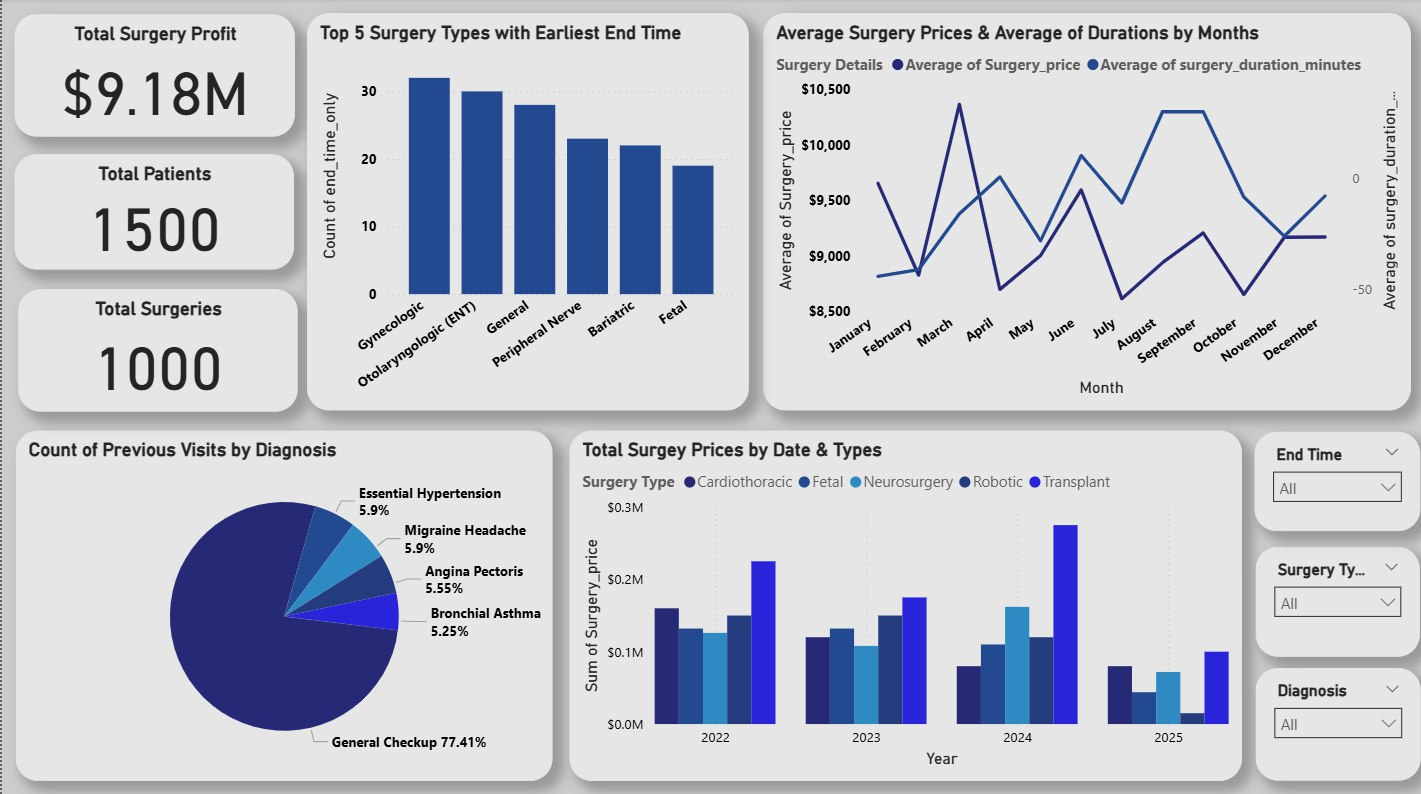

The dashboard page shown, as its layout file describes it:
{"tool":"powerbi","page":{"name":"3","canvas":[1280,720],"ordinal":2},"visuals":[{"type":"card","title":"Total Surgery Profit","fields":{"Values":["Sum(SurgeryRecords.Surgery_price)"]},"box":[11.6,14.1,253.1,110.5],"z":0},{"type":"card","title":"Total Patients","fields":{"Values":["CountNonNull(Patients.patient_Id)"]},"box":[11.6,141.3,251.8,104.1],"z":1000},{"type":"pieChart","title":"Count of Previous Visits  by Diagnosis","fields":{"Y":["CountNonNull(MedicalRecords.previousvisits_count)"],"Category":["MedicalRecords.diagnosis"]},"box":[12.8,390.5,484.3,316],"z":2000},{"type":"card","title":"Total Surgeries","fields":{"Values":["CountNonNull(SurgeryRecords.surgery_Id)"]},"box":[14.1,262.1,251.8,110.5],"z":3000},{"type":"lineChart","title":"Average Surgery Prices & Average of Durations by Months","fields":{"Y":["Avg(SurgeryRecords.Surgery_price)"],"Y2":["Avg(SurgeryRecords.surgery_duration_minutes)"],"Category":["SurgeryRecords.surgery_Date.Variation.Date Hierarchy.Month"]},"box":[686.1,13.9,584.1,358.5],"z":4000},{"type":"clusteredColumnChart","title":"Total Surgey Prices by Date & Types","fields":{"Y":["Sum(SurgeryRecords.Surgery_price)"],"Series":["SurgeryRecords.surgery_Type"],"Category":["SurgeryRecords.surgery_Date.Variation.Date Hierarchy.Year"]},"box":[511.3,390.5,606.3,316],"z":5000},{"type":"columnChart","title":" Top 5 Surgery Types with Earliest End Time","fields":{"Category":["SurgeryRecords.surgery_Type"],"Y":["CountNonNull(SurgeryRecords.end_time_only)"]},"box":[275,13.9,398.7,358.5],"z":6000},{"type":"slicer","fields":{"Values":["SurgeryRecords.surgery_Type"]},"box":[1131.1,494.5,148.3,98.9],"z":7000},{"type":"slicer","fields":{"Values":["MedicalRecords.diagnosis"]},"box":[1130.5,603.8,149,101.5],"z":8000},{"type":"slicer","fields":{"Values":["SurgeryRecords.end_time_only"]},"box":[1129.5,390.9,149.9,89.6],"z":9000}]}

Visuals, with their boxes in screenshot pixels (x1, y1, x2, y2), scaled from the page's 1280x720 canvas onto the 1421x794 screenshot:
"Total Surgery Profit" card: crop(13, 16, 294, 137)
"Total Patients" card: crop(13, 156, 292, 271)
"Count of Previous Visits  by Diagnosis" pieChart: crop(14, 431, 552, 779)
"Total Surgeries" card: crop(16, 289, 295, 411)
"Average Surgery Prices & Average of Durations by Months" lineChart: crop(762, 15, 1410, 411)
"Total Surgey Prices by Date & Types" clusteredColumnChart: crop(568, 431, 1241, 779)
" Top 5 Surgery Types with Earliest End Time" columnChart: crop(305, 15, 748, 411)
slicer - SurgeryRecords.surgery_Type: crop(1256, 545, 1420, 654)
slicer - MedicalRecords.diagnosis: crop(1255, 666, 1420, 778)
slicer - SurgeryRecords.end_time_only: crop(1254, 431, 1420, 530)
